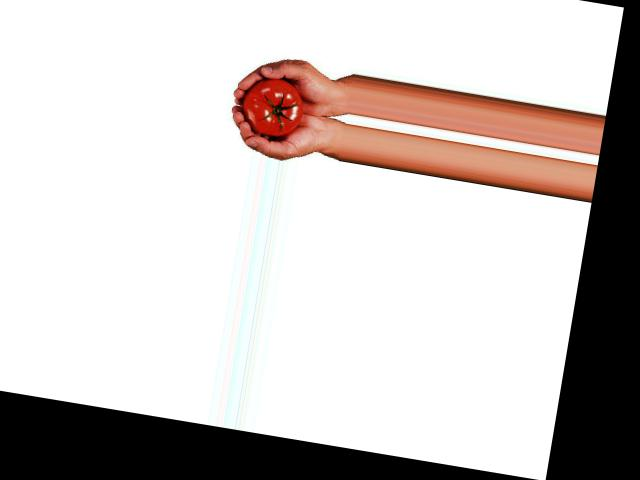tomato: (239, 73, 306, 140)
